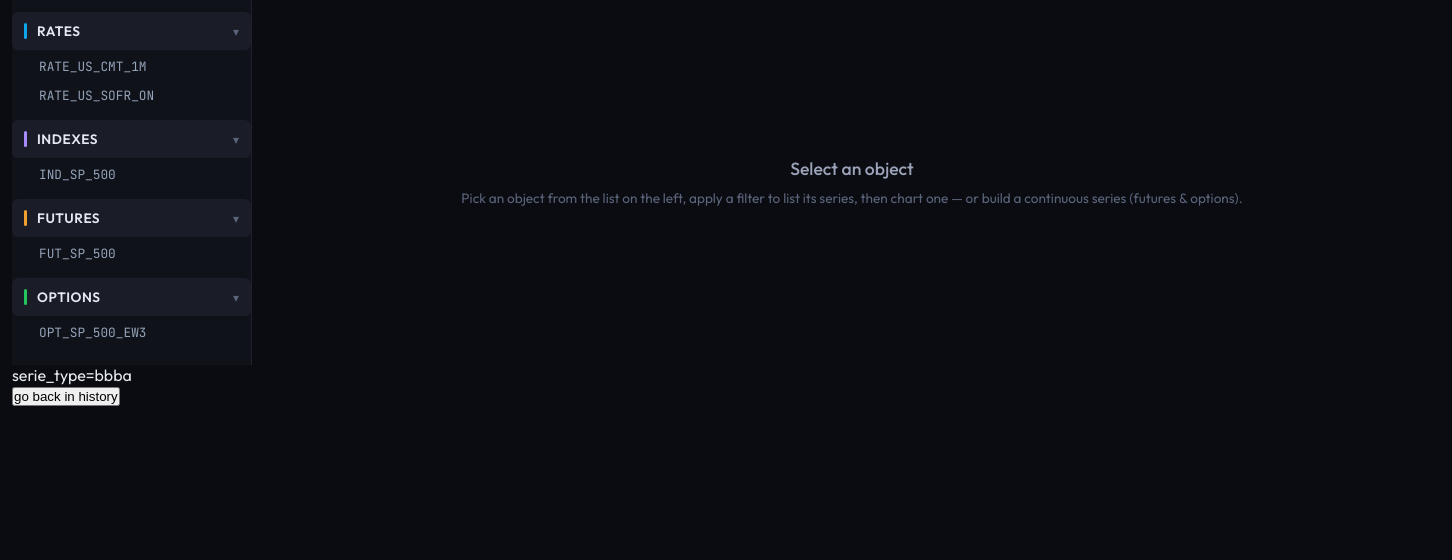
Test case: DataV2Page › keeps a shared link's filter across the recipient's first object pick
This screenshot has width=1452, height=560.
Click the button "OPT_SP_500_EW3".
click(132, 332)  # box [12,318,251,347]
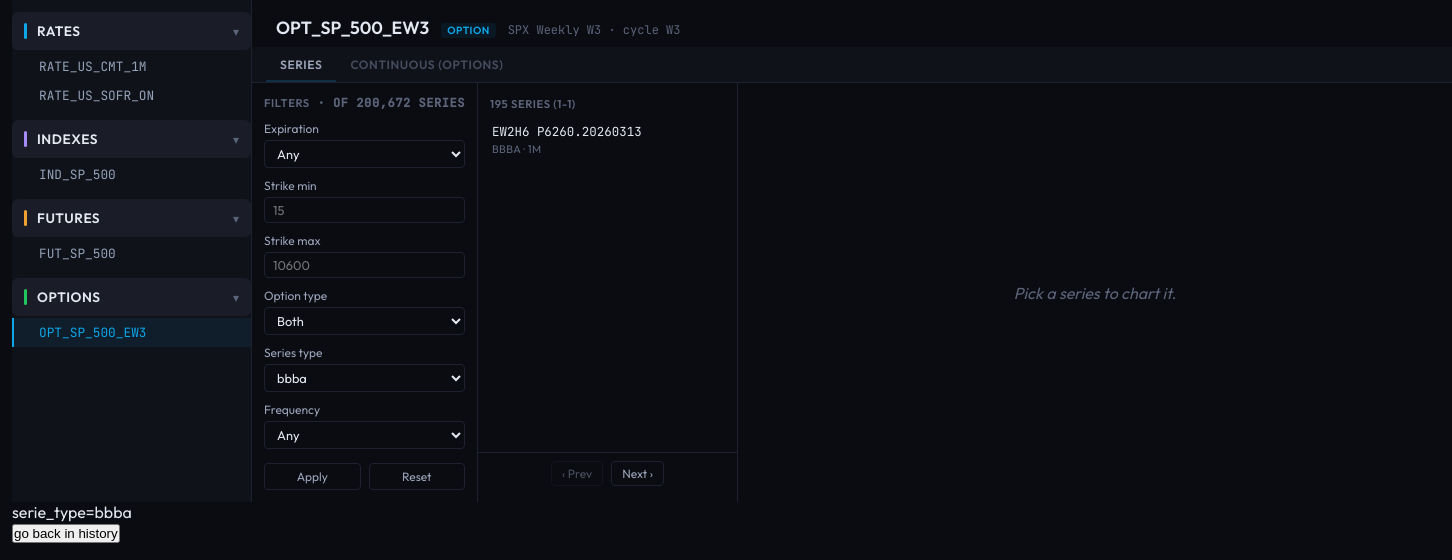
Check: the text "EW2H6 P6260.20260313" is shown, box [492,123,642,140]
Check: the dropdown labelled "Series type" shows "bbba", box [264,364,465,392]
